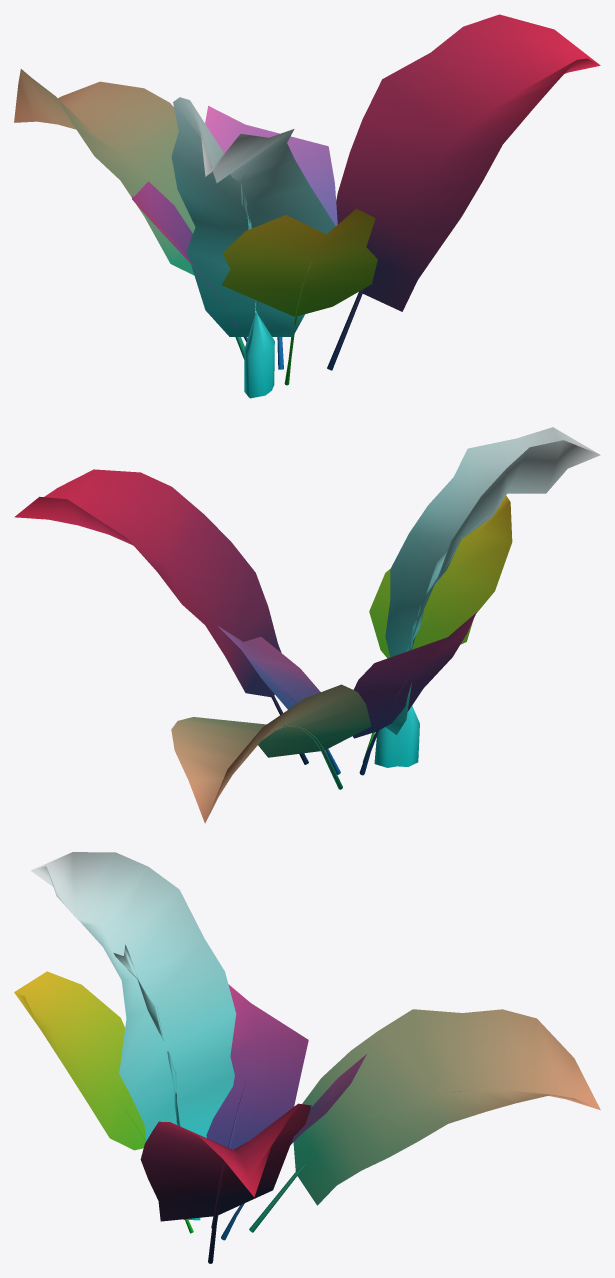
The model's file is Lady_Fern_wdvlditia_Mid_wdvlditia_VarI_LOD0.fbx.
The picture shows the model from 3 angles, top to bottom: view 1: azimuth 30°, elevation 25°; view 2: azimuth 150°, elevation 25°; view 3: azimuth 270°, elevation 25°; orthographic projection. The views are drawn at different scales.
Visible parts, largest first — view 1: _wf6s_VarI_LOD2; view 2: _wf6s_VarI_LOD2; view 3: _wf6s_VarI_LOD2.
Part boxes in pixels (x1=…): _wf6s_VarI_LOD2: x1=14, y1=14, x2=600, y2=398; _wf6s_VarI_LOD2: x1=14, y1=427, x2=600, y2=823; _wf6s_VarI_LOD2: x1=14, y1=852, x2=600, y2=1263.
Bounding box in the file's own units: 98.5 × 64.58 × 106.
